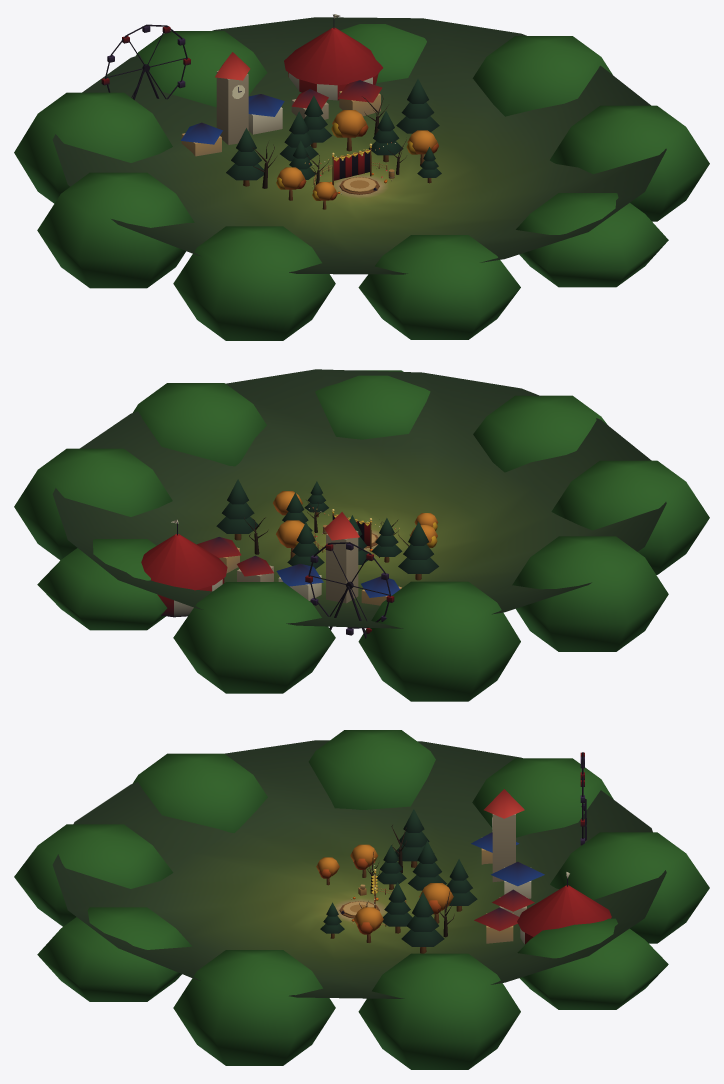
File: stage.glb
3 renders of one model, top to bottom at view 1: azimuth 30°, elevation 25°; view 2: azimuth 150°, elevation 25°; view 3: azimuth 270°, elevation 25°, orthographic.
Visible parts, largest first — view 1: town, ground, bandstand, wheel; view 2: town, ground, wheel; view 3: town, ground, bandstand.
Boxes of the visible parts, x1,y1,x2,y2 form: town: [14, 14, 709, 340]; ground: [52, 17, 666, 274]; bandstand: [332, 146, 394, 194]; wheel: [101, 24, 190, 99]; town: [14, 370, 709, 701]; ground: [52, 369, 666, 628]; wheel: [305, 542, 394, 635]; town: [14, 730, 709, 1069]; ground: [52, 740, 666, 998]; bandstand: [339, 871, 379, 918].
Size of the model in its own units: 74.21 by 18.52 by 77.02.
